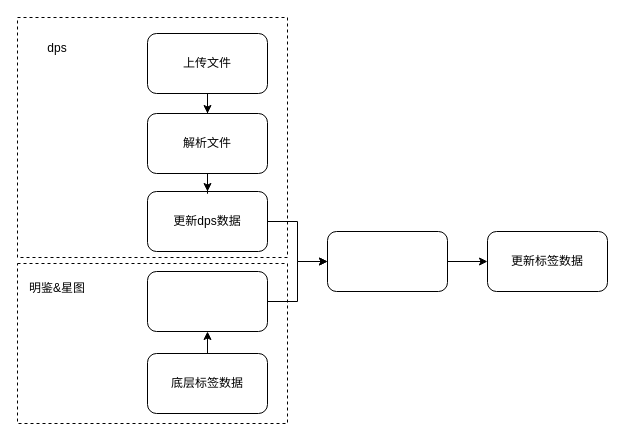
Some shapes in this 625 by 441 pixel diagram are drawn without their labels. Here are the shapes that lost their labels. From the top down, the box of each, then its label:
(326, 230, 448, 292): 构建标签转换关系
(146, 270, 268, 332): 更新星图&明鉴标签数据
